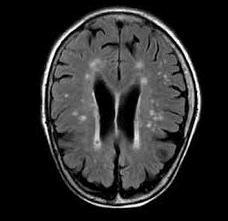Normal_Brain: (4, 1, 228, 221)
